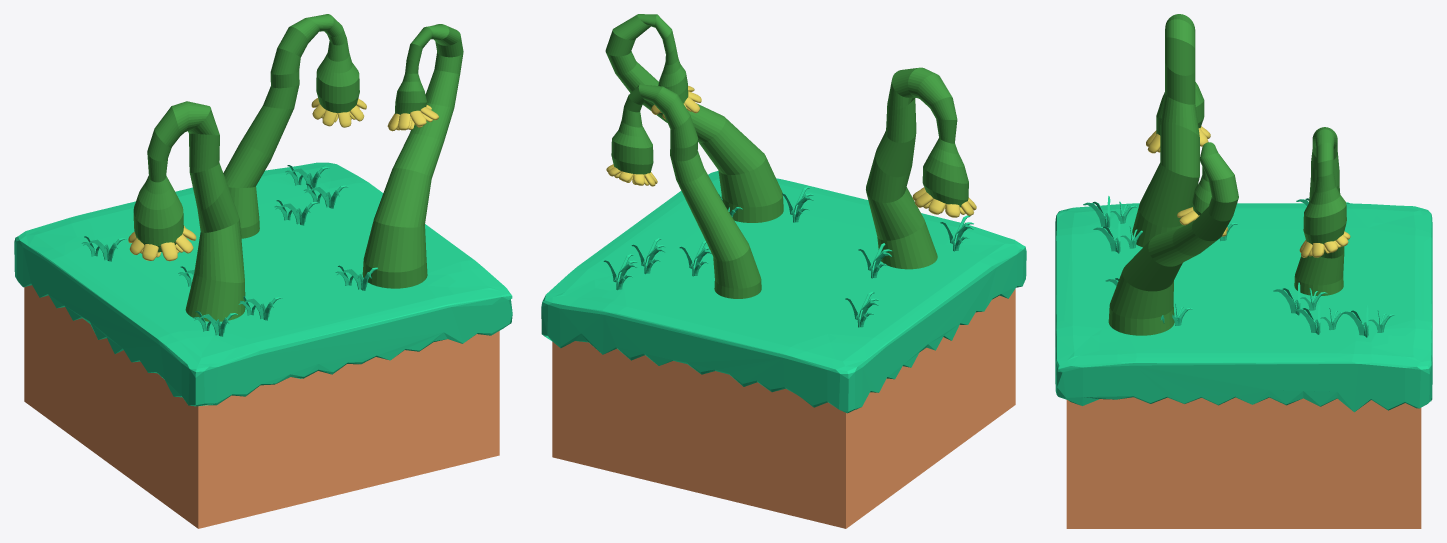
Rendered from floweratnight.fbx.
3 renders of one model, left to right at view 1: azimuth 30°, elevation 25°; view 2: azimuth 150°, elevation 25°; view 3: azimuth 270°, elevation 25°, orthographic. The views are drawn at different scales.
Parts seen in each view (by area): view 1: Cube.023, Cube.024, Cylinder.008, Cylinder.010, Cylinder.012, Cylinder.015, Cylinder.016, Cylinder.017; view 2: Cube.024, Cube.023, Cylinder.008, Cylinder.012, Cylinder.010, Cylinder.015; view 3: Cube.024, Cube.023, Cylinder.010, Cylinder.008, Cylinder.012, Cylinder.016, Plane.021, Plane.020, Plane.024, Plane.025, Plane.027.
Boxes of the visible parts, x1,y1,x2,y2 form: Cube.023: [24, 285, 499, 528]; Cube.024: [14, 162, 512, 406]; Cylinder.008: [133, 101, 245, 321]; Cylinder.010: [362, 24, 463, 288]; Cylinder.012: [223, 14, 359, 238]; Cylinder.015: [128, 226, 196, 261]; Cylinder.016: [311, 98, 366, 127]; Cylinder.017: [387, 105, 438, 131]; Cube.024: [541, 171, 1026, 413]; Cube.023: [552, 289, 1015, 528]; Cylinder.008: [866, 67, 968, 269]; Cylinder.012: [611, 84, 761, 298]; Cylinder.010: [605, 14, 783, 222]; Cylinder.015: [912, 187, 976, 217]; Cube.024: [1055, 203, 1432, 412]; Cube.023: [1066, 397, 1421, 528]; Cylinder.010: [1108, 142, 1238, 335]; Cylinder.008: [1132, 14, 1204, 247]; Cylinder.012: [1294, 127, 1346, 295]; Cylinder.016: [1299, 231, 1350, 257]; Plane.021: [1083, 196, 1136, 227]; Plane.020: [1341, 304, 1395, 337]; Plane.024: [1273, 282, 1327, 315]; Plane.025: [1293, 302, 1343, 334]; Plane.027: [1093, 220, 1142, 253].
Size of the model in its own units: 468 by 479 by 426.
